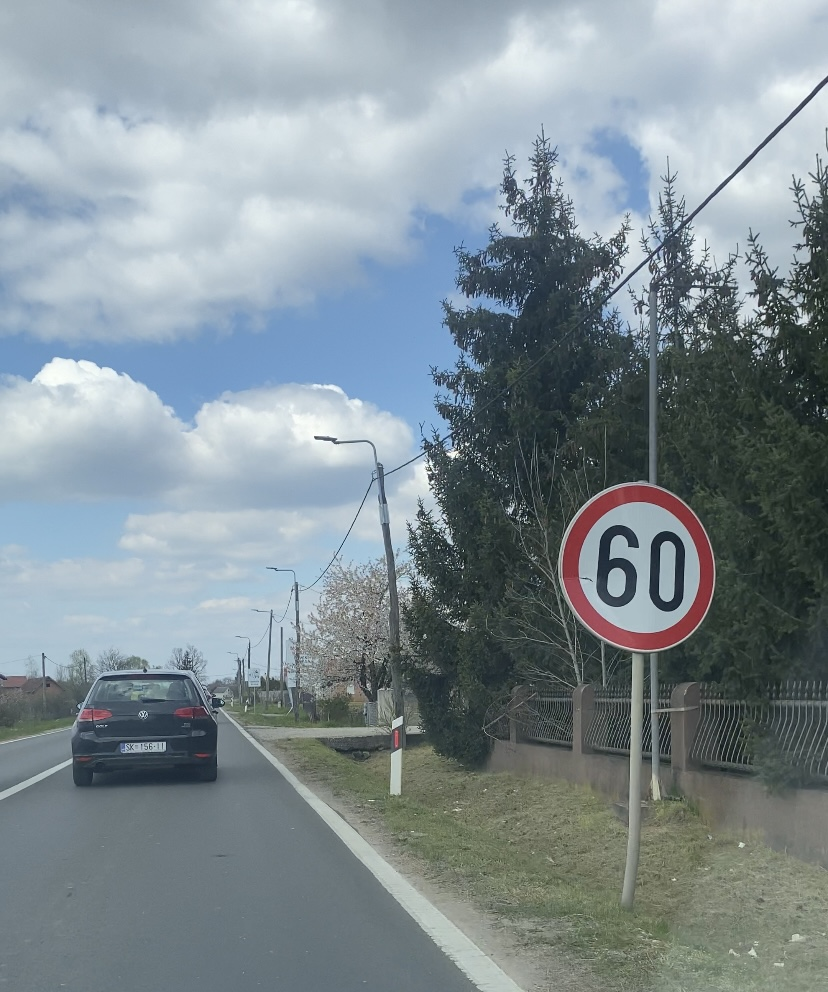Ograničenje brzine 60: (558, 479, 716, 654)
